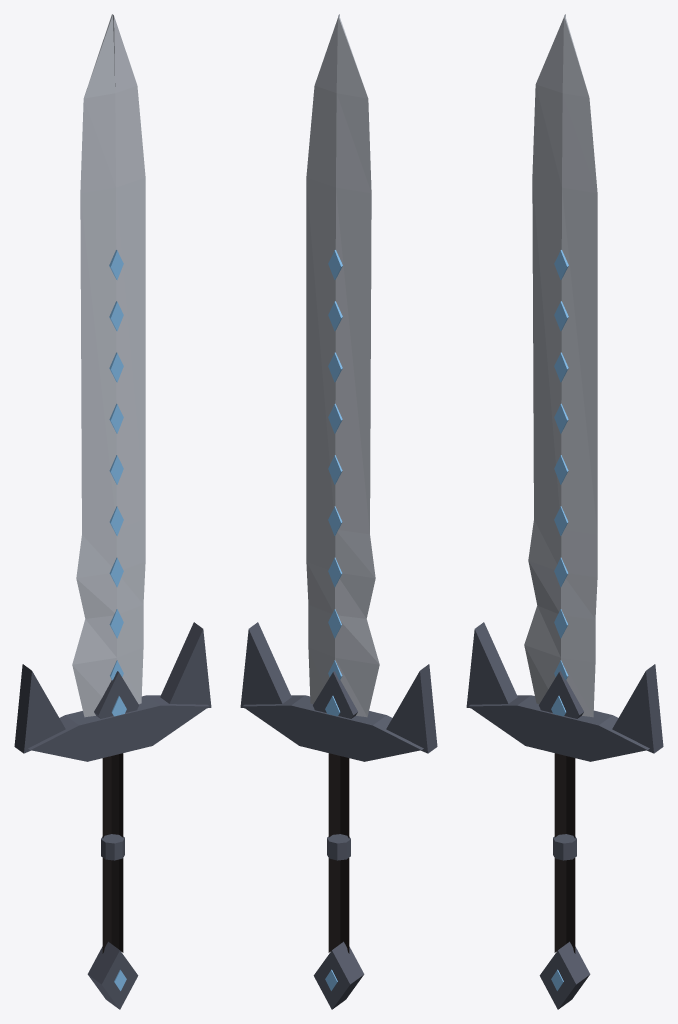
Rendered from Shardblade.obj.
The picture shows the model from 3 angles, left to right: view 1: azimuth 30°, elevation 25°; view 2: azimuth 150°, elevation 25°; view 3: azimuth 330°, elevation 25°; orthographic projection.
Parts seen in each view (by area): view 1: Shardblade; view 2: Shardblade; view 3: Shardblade.
Boxes of the visible parts, <box> form: Shardblade: <box>14,14,211,1009</box>; Shardblade: <box>240,14,437,1009</box>; Shardblade: <box>466,14,663,1009</box>.
Size of the model in its own units: 0.46 by 2.32 by 0.066.
